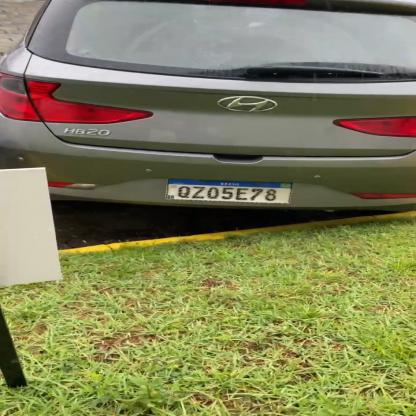Plate: (162, 171, 300, 212)
